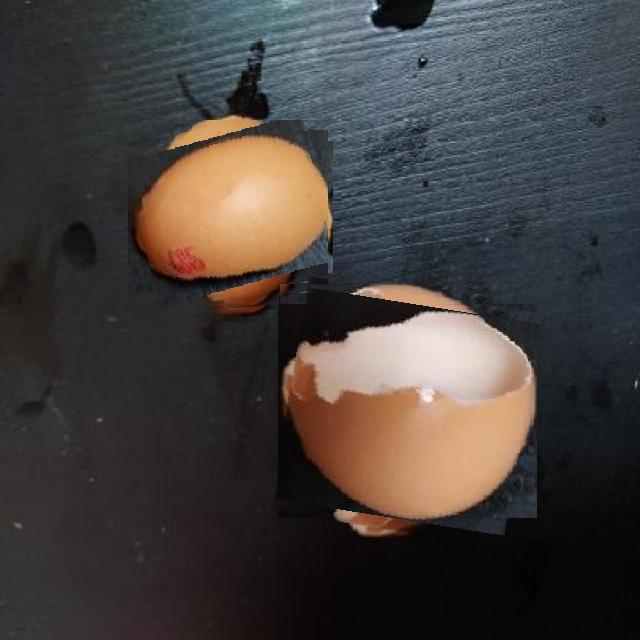biodegradable: (280, 284, 534, 538), (132, 120, 328, 314)
